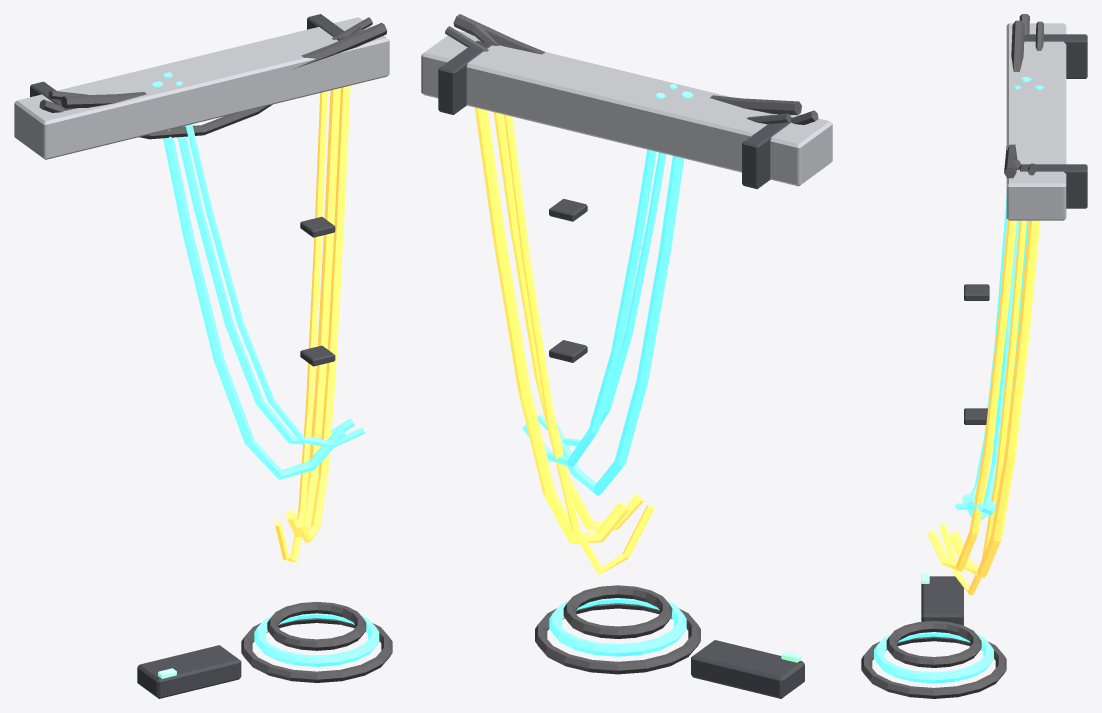
Rendered from cyberpunk-apartment-and-neon-block-cable-spaghetti-bun-9ff6eda4__37823.glb.
3 views of the same model, side by side, from view 1: azimuth 30°, elevation 25°; view 2: azimuth 150°, elevation 25°; view 3: azimuth 270°, elevation 25° (orthographic). The views are drawn at different scales.
Visible parts, largest first — view 1: cable-spaghetti-bundle; view 2: cable-spaghetti-bundle; view 3: cable-spaghetti-bundle.
Part boxes in pixels (bbox=[...]): cable-spaghetti-bundle: bbox=[14, 14, 392, 698]; cable-spaghetti-bundle: bbox=[421, 14, 832, 698]; cable-spaghetti-bundle: bbox=[861, 14, 1087, 698].
Bounding box in the file's own units: 0.9 × 1.43 × 0.5304.
